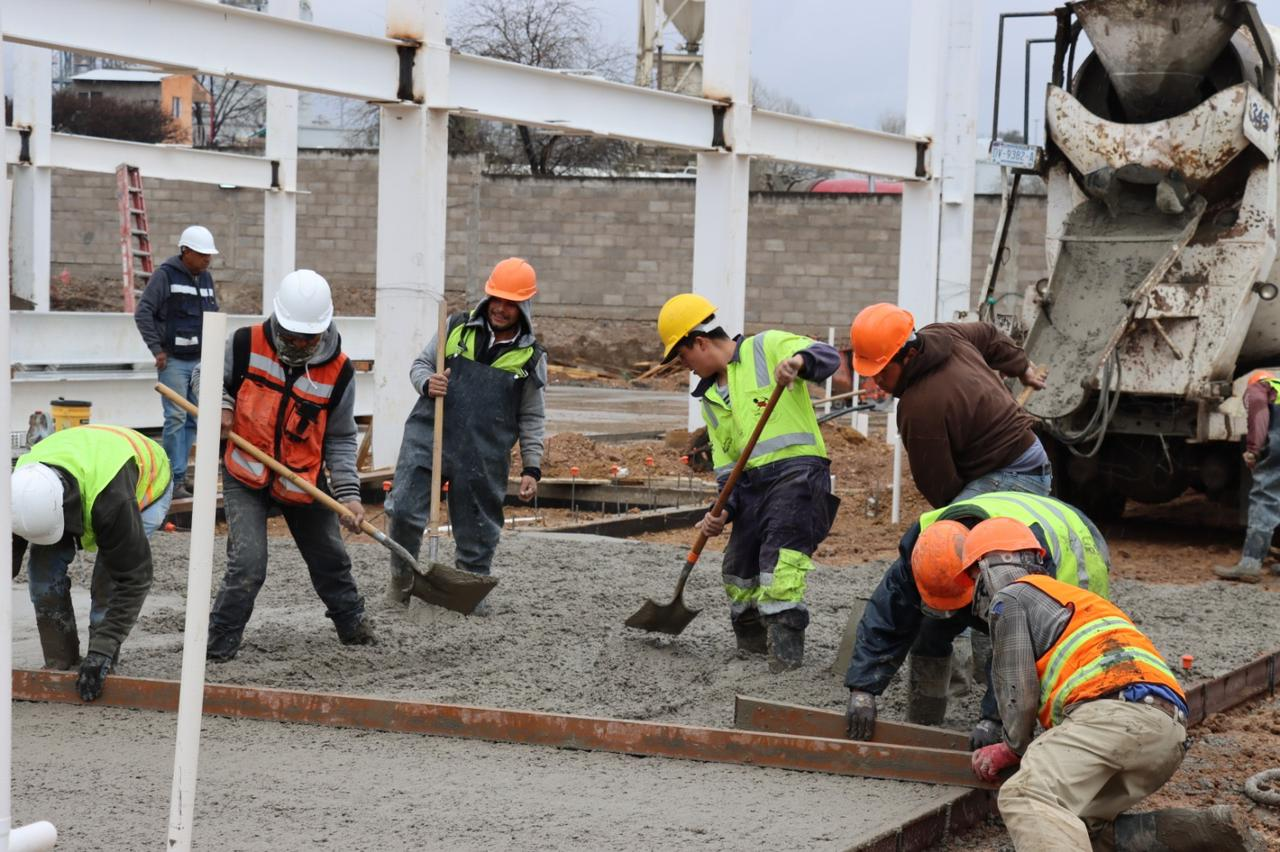Casco de seguridad: (911, 520, 973, 612), (850, 303, 913, 375), (12, 463, 64, 544), (657, 293, 716, 362), (963, 517, 1044, 566), (273, 269, 332, 334), (485, 257, 536, 301), (179, 225, 217, 254)
